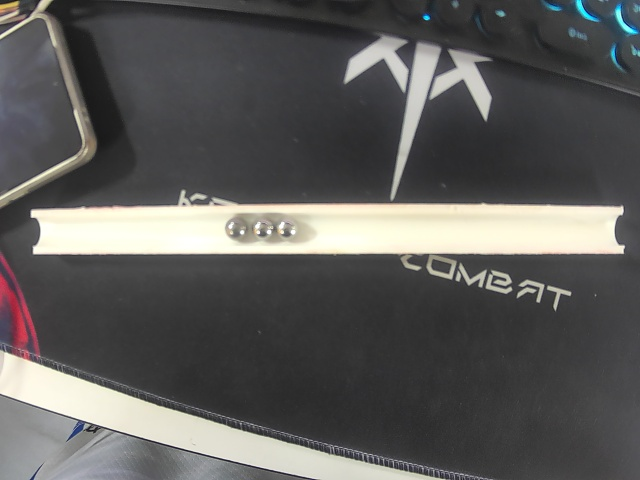steelball: (224, 217, 249, 241), (276, 219, 300, 243), (252, 219, 275, 240)
